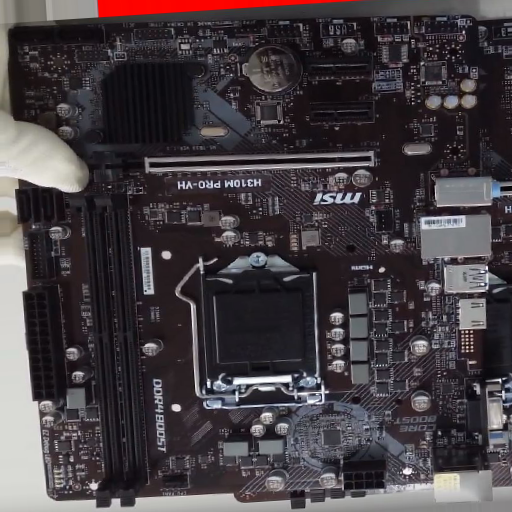CPU: (200, 254, 324, 410)
GPU: (93, 147, 379, 188)
MOTHERBOARD: (10, 17, 493, 504)
RAM: (74, 194, 146, 509)
